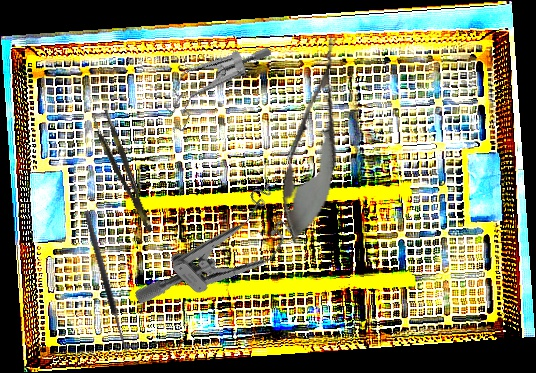Hook Surgical: (82, 207, 138, 357)
Micro Scissor: (270, 31, 359, 248)
Speculum: (131, 170, 311, 349), (152, 16, 275, 157)
Tissue Forceps: (90, 108, 155, 238)
